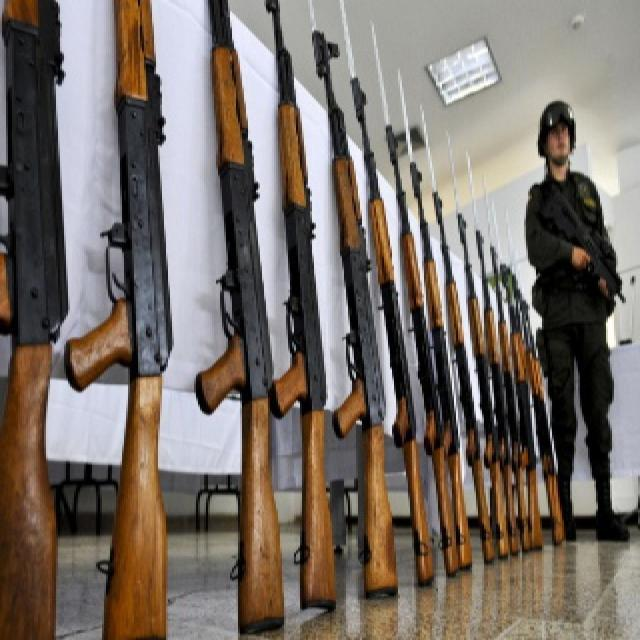Rifle: (302, 12, 412, 598), (188, 1, 282, 638), (266, 1, 334, 618)
